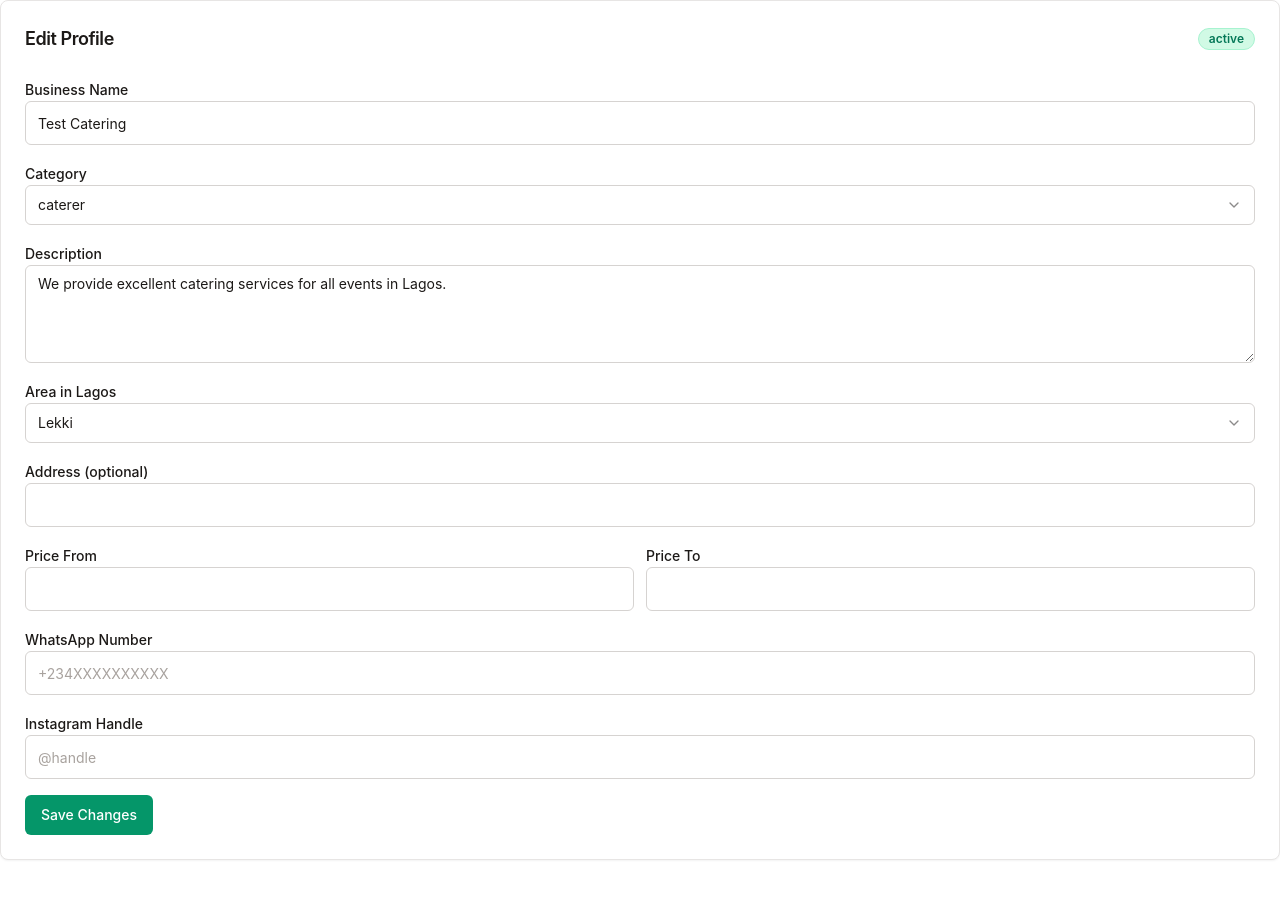
Test case: ProfileEditForm › validates and shows errors
Clear the field labelled "Business Name" at {"x": 640, "y": 123}, box [25,101,1255,145]
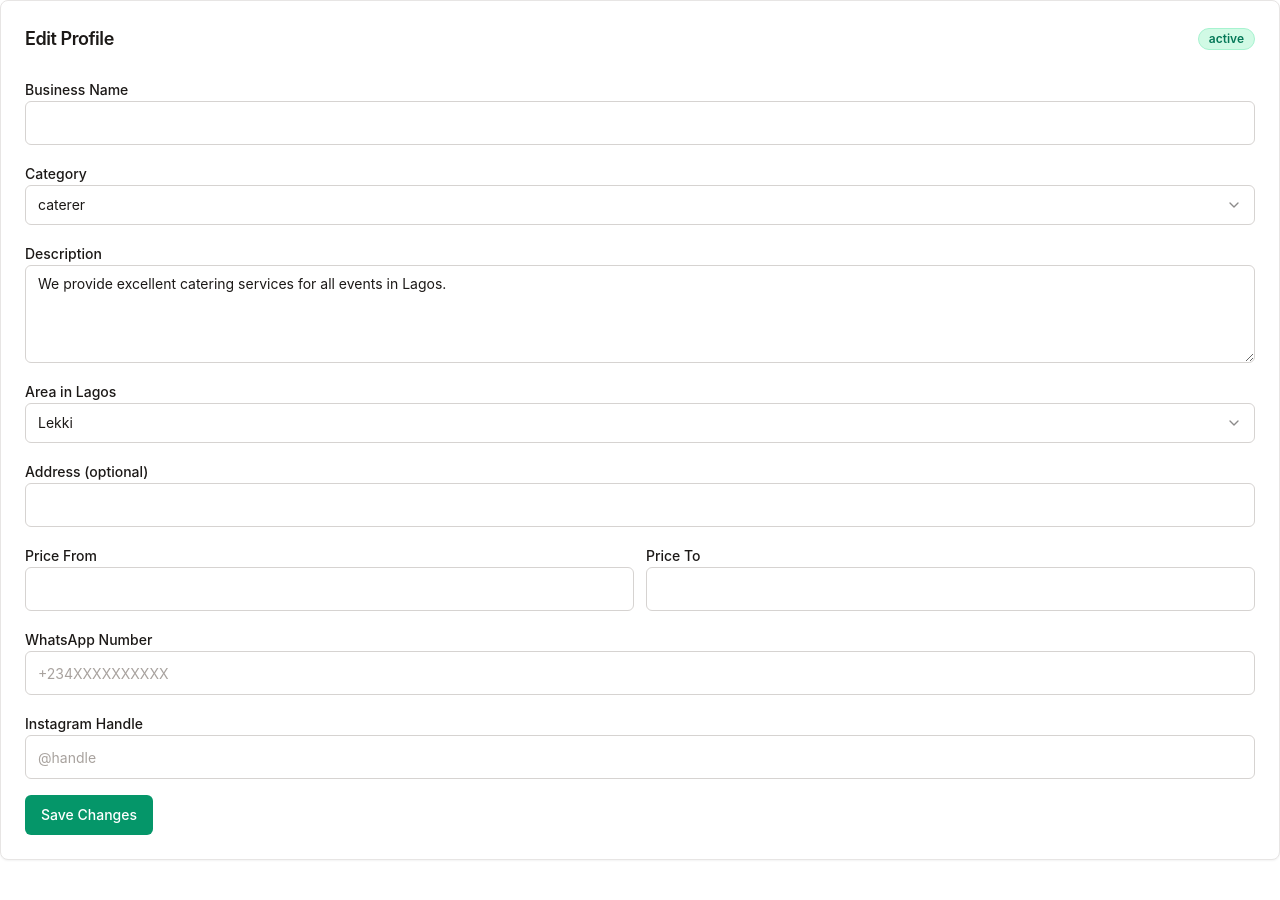
Click the button "Save Changes" at {"x": 89, "y": 815}, box [25,795,153,835]
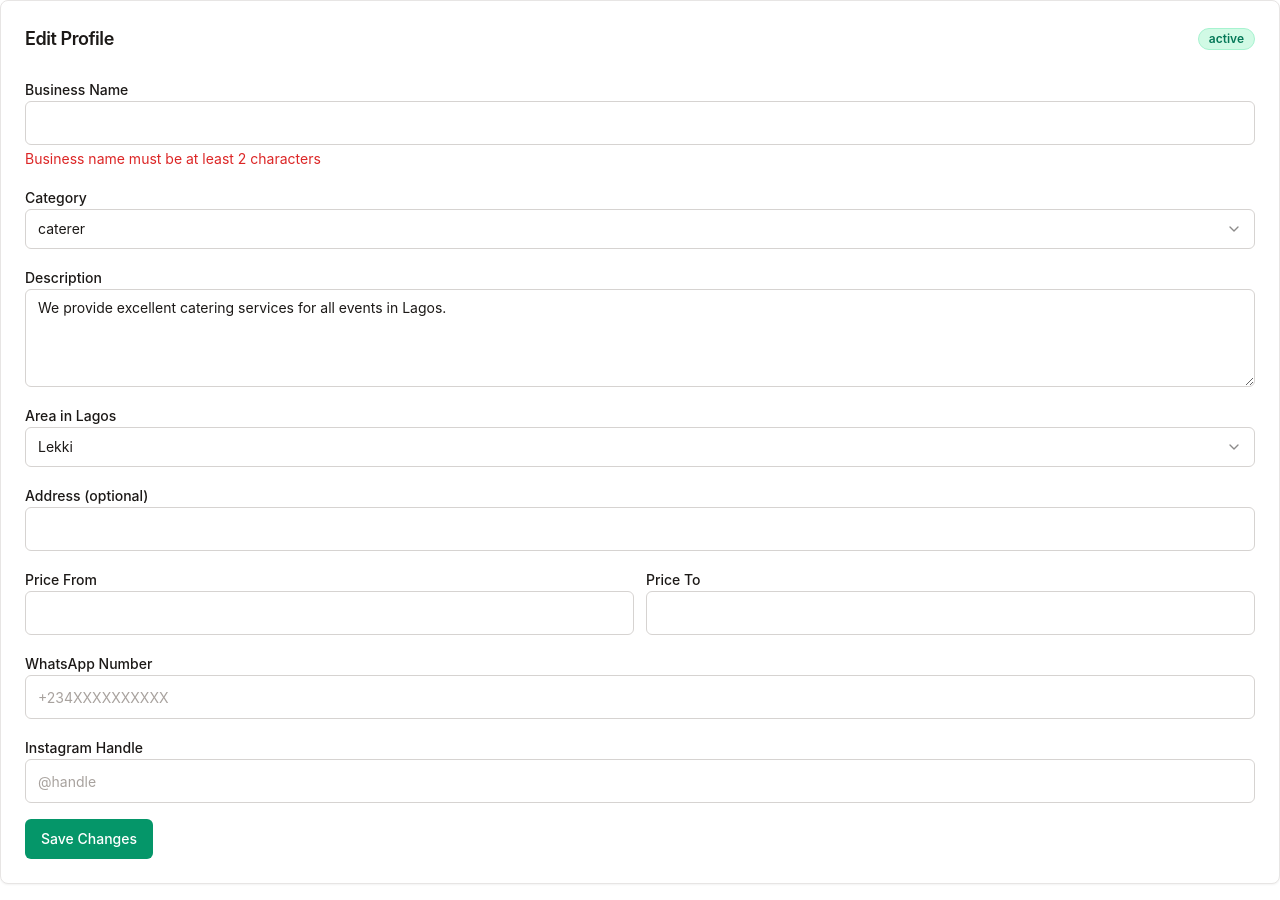
Expected: the text "Business name must be at least 2 characters" is shown, [25,150,321,167]
